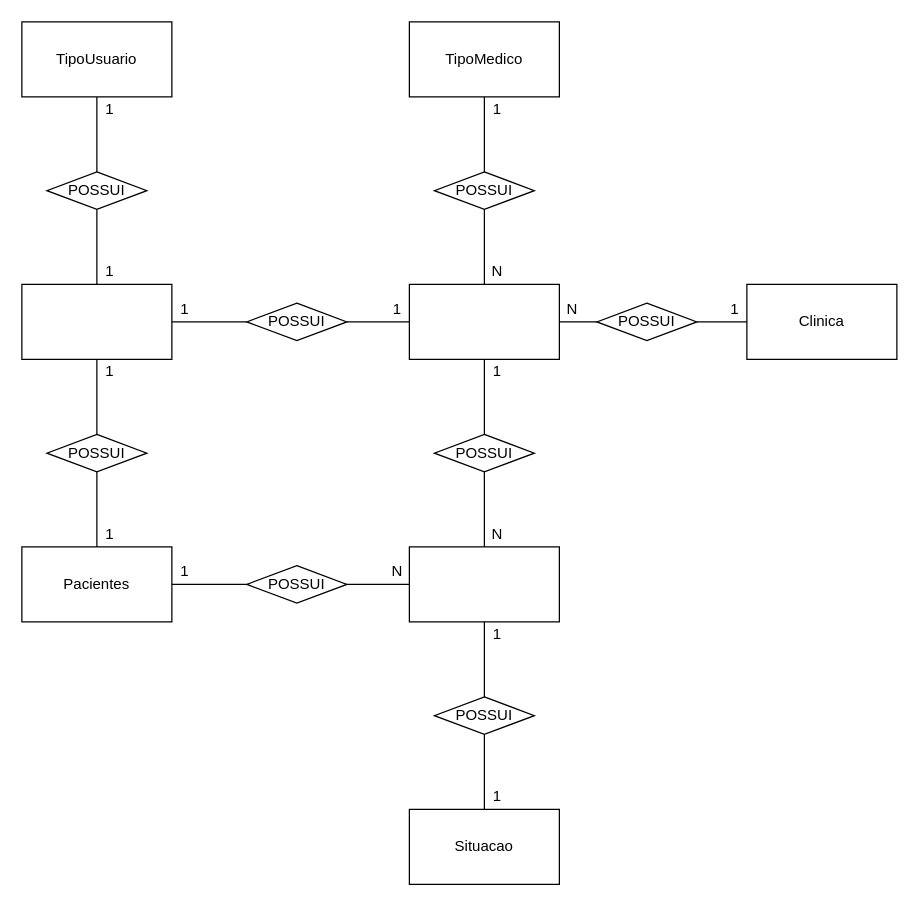
Image size: 919x906. Some labels were removed from this diagram. The centre of each missing label's shape, as x and y in pixels:
"Consulta" belongs at (483,584).
"Medicos" belongs at (483,321).
"Usuario" belongs at (96,321).
